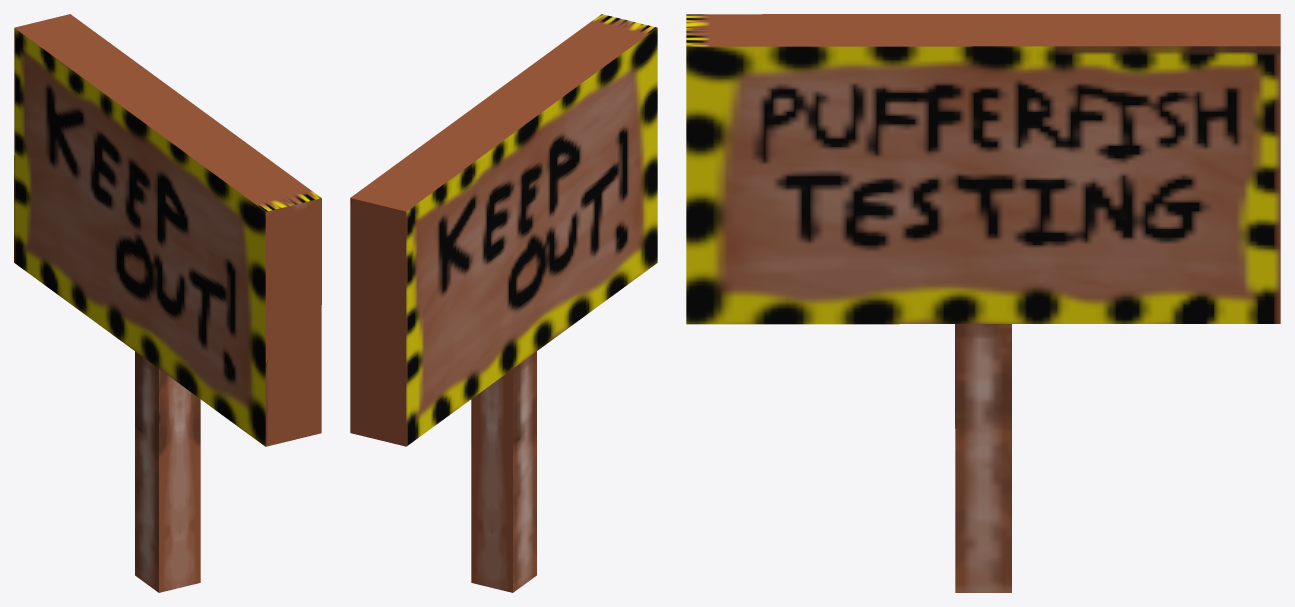
File: warningsign.fbx
3 views of the same model, side by side, from view 1: azimuth 30°, elevation 25°; view 2: azimuth 150°, elevation 25°; view 3: azimuth 270°, elevation 25° (orthographic). The views are drawn at different scales.
Parts seen in each view (by area): view 1: Cube.001; view 2: Cube.001; view 3: Cube.001.
Boxes of the visible parts, x1,y1,x2,y2 form: Cube.001: (14, 14, 321, 592); Cube.001: (350, 14, 657, 592); Cube.001: (686, 14, 1280, 592).
Size of the model in its own units: 31.14 by 246 by 241.
1 material, 1 textured.
